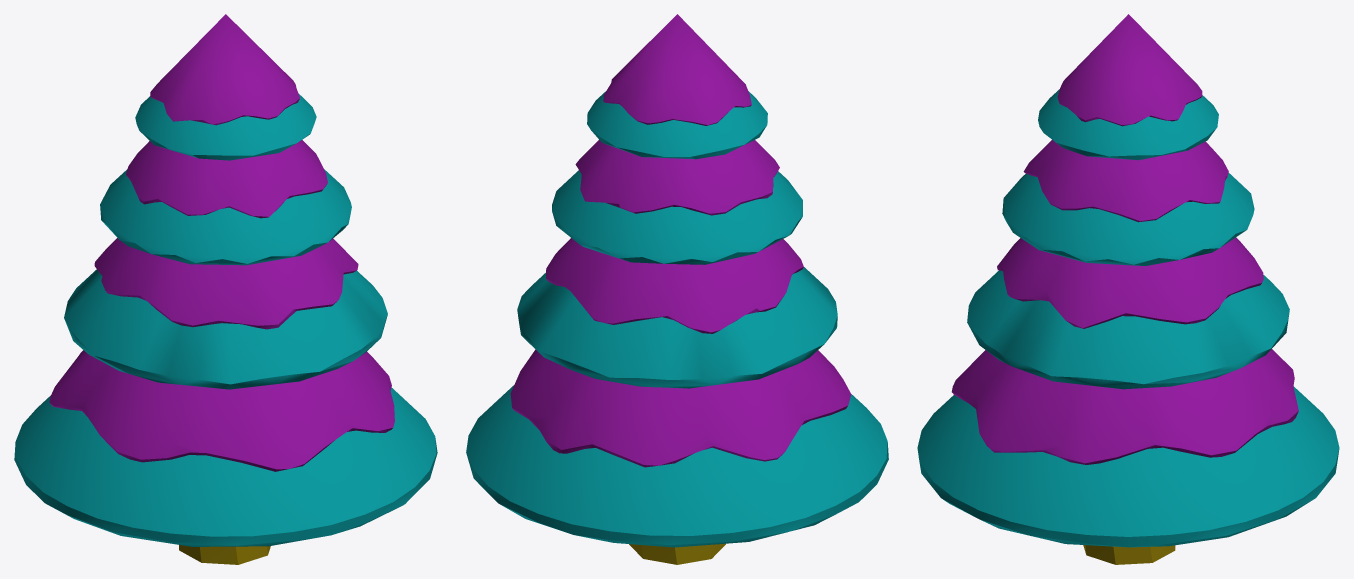
File: F_Christmas tree_02.fbx
3 views of the same model, side by side, from view 1: azimuth 30°, elevation 25°; view 2: azimuth 150°, elevation 25°; view 3: azimuth 270°, elevation 25° (orthographic).
Parts seen in each view (by area): view 1: Cylinder.004; view 2: Cylinder.004; view 3: Cylinder.004.
Boxes of the visible parts, x1=… form: Cylinder.004: x1=14, y1=14, x2=437, y2=564; Cylinder.004: x1=466, y1=14, x2=888, y2=564; Cylinder.004: x1=917, y1=14, x2=1339, y2=564.
Size of the model in its own units: 138 by 192 by 138.
